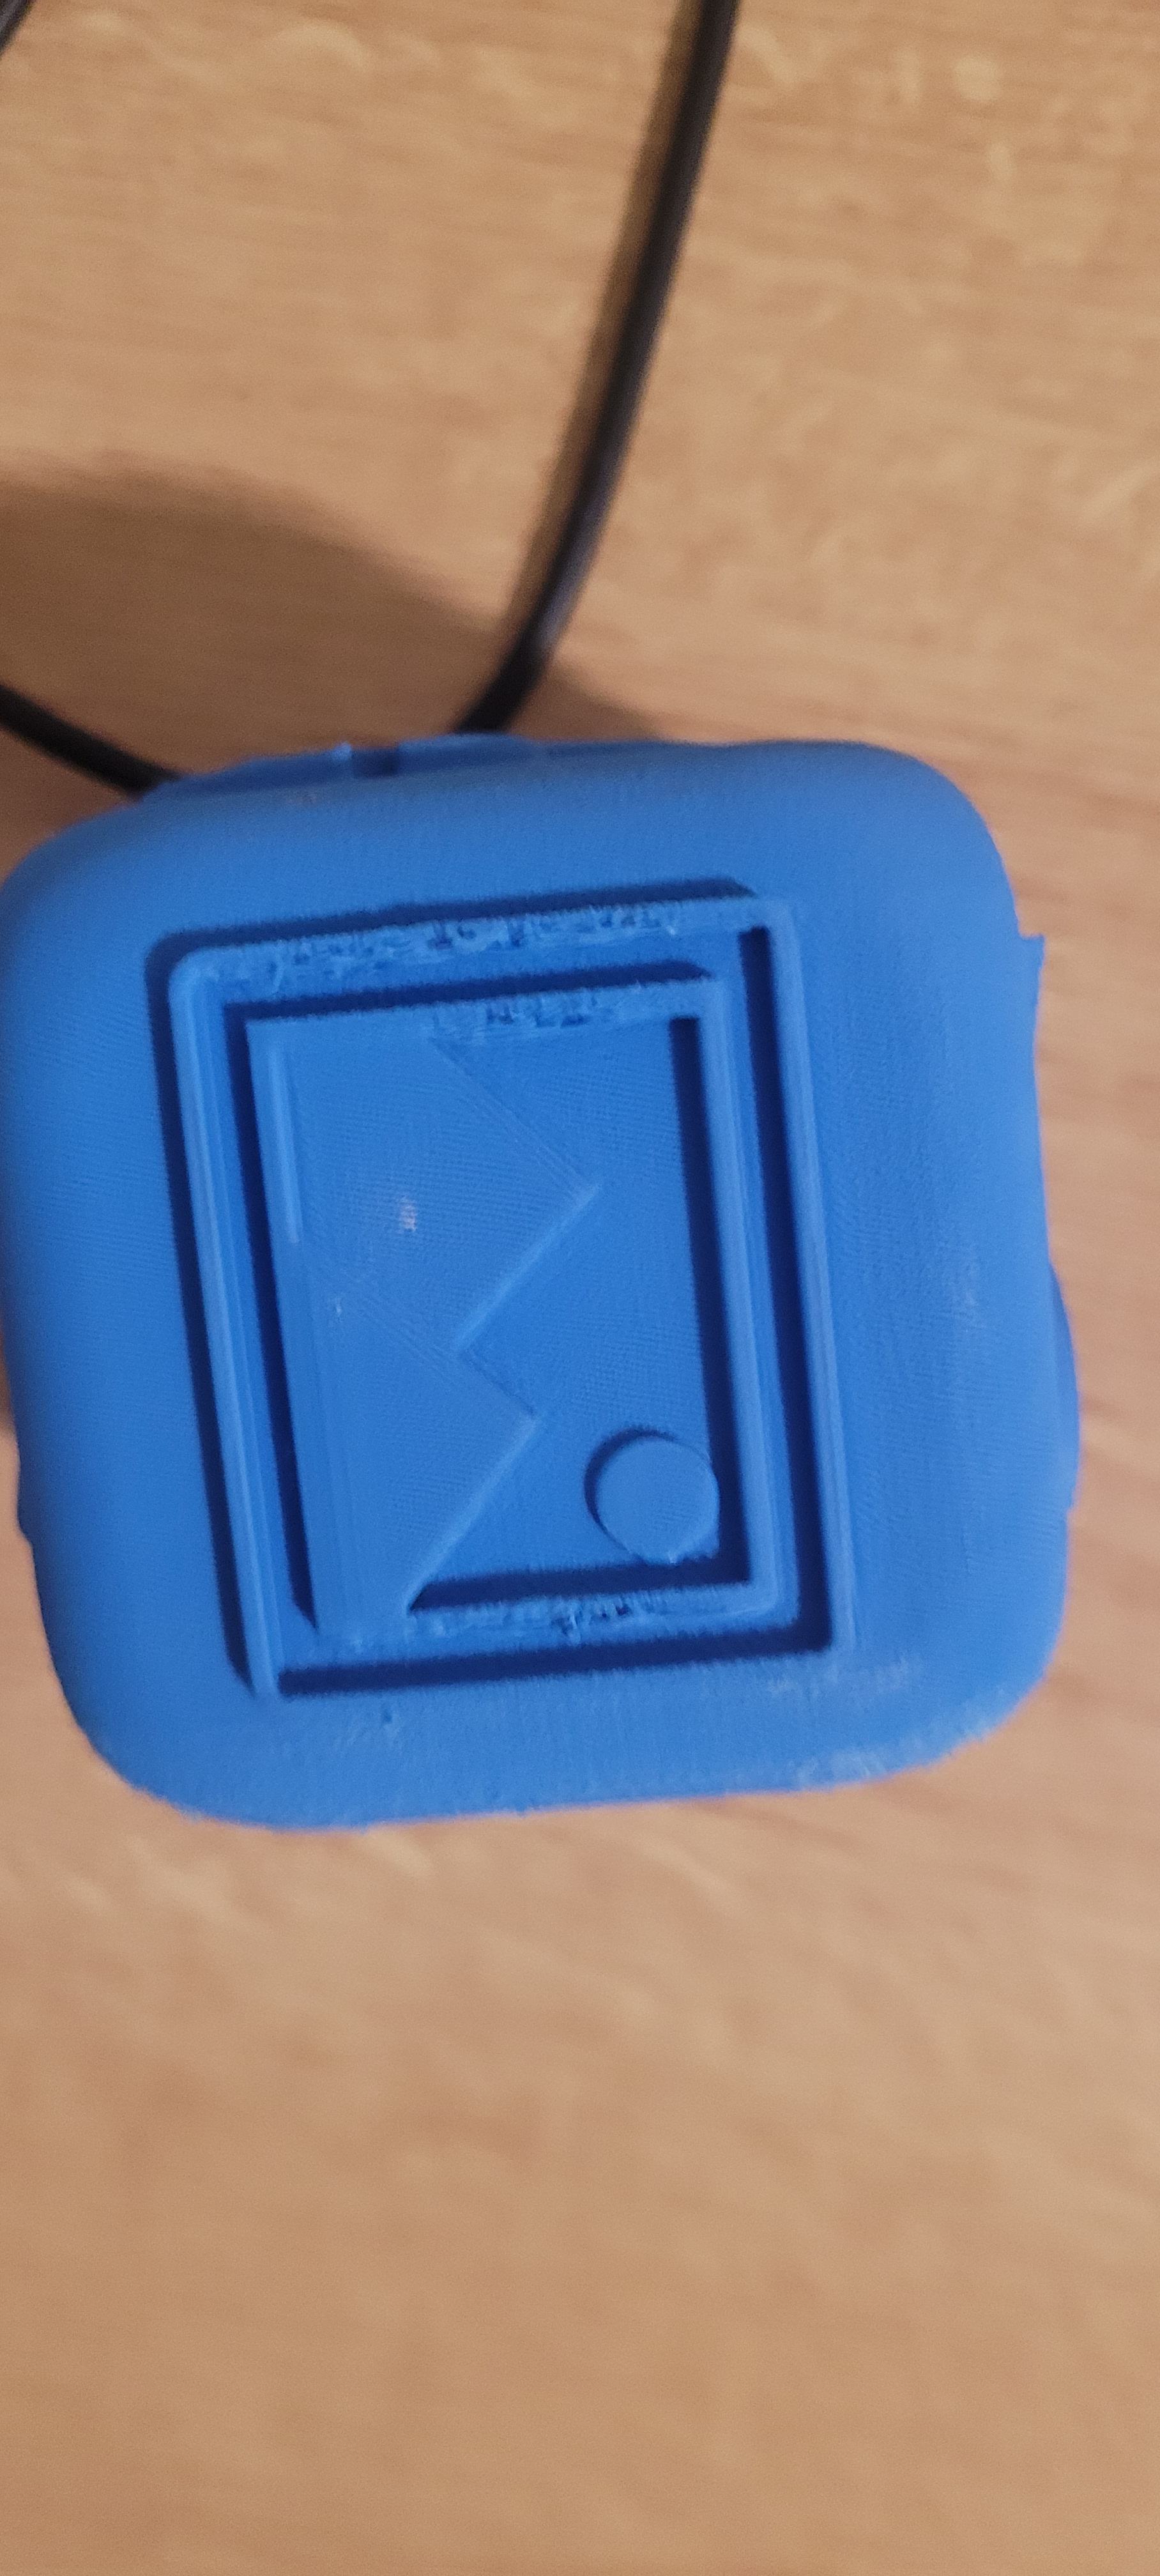Story: (151, 779, 887, 1778)
